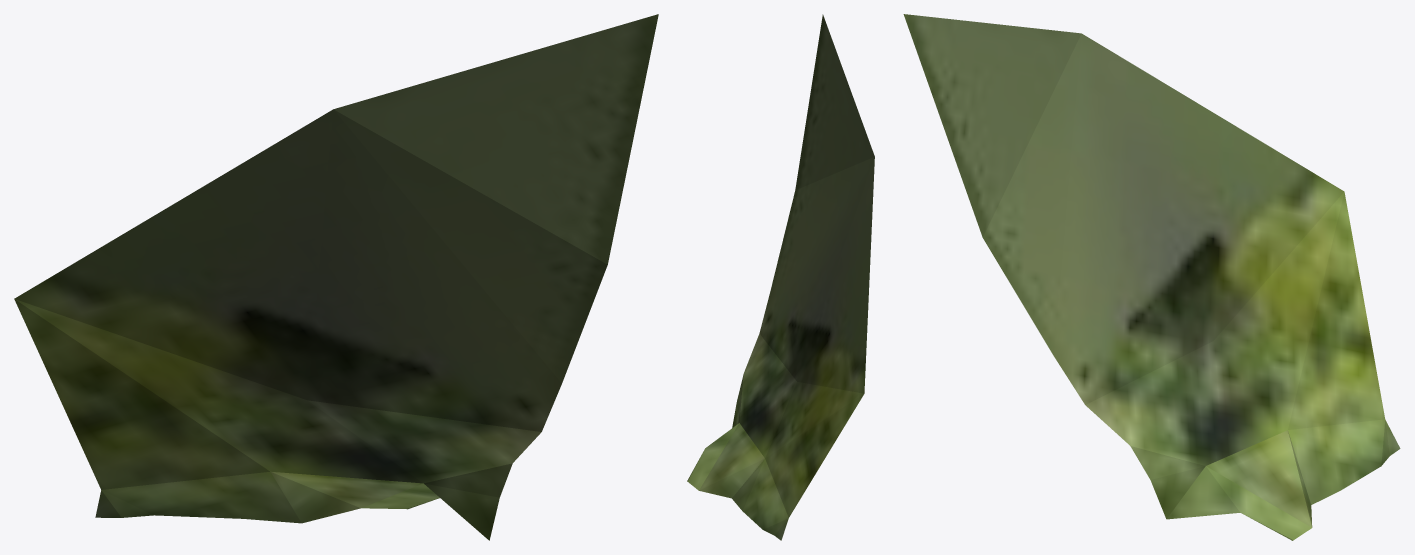
3 renders of one model, left to right at view 1: azimuth 30°, elevation 25°; view 2: azimuth 150°, elevation 25°; view 3: azimuth 270°, elevation 25°, orthographic. The views are drawn at different scales.
Size of the model in its own units: 8.01 by 14.4 by 12.31.
Materials: 1 (1 with a texture image).
